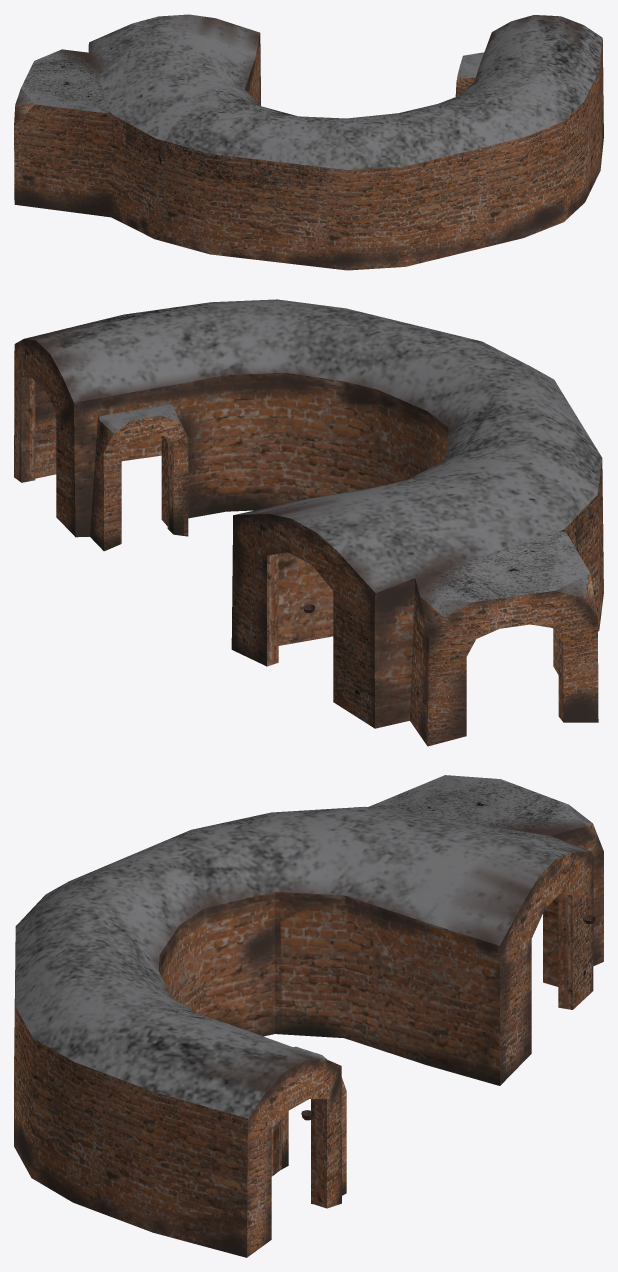
The model's file is Tunnel.fbx.
3 renders of one model, top to bottom at view 1: azimuth 30°, elevation 25°; view 2: azimuth 150°, elevation 25°; view 3: azimuth 270°, elevation 25°, orthographic. The views are drawn at different scales.
Parts seen in each view (by area): view 1: Plane.002; view 2: Plane.002; view 3: Plane.002.
Part boxes in pixels (x1=…): Plane.002: x1=14, y1=14, x2=603, y2=270; Plane.002: x1=14, y1=299, x2=603, y2=746; Plane.002: x1=14, y1=775, x2=603, y2=1257.
Size of the model in its own units: 5703 by 1364 by 4079.
